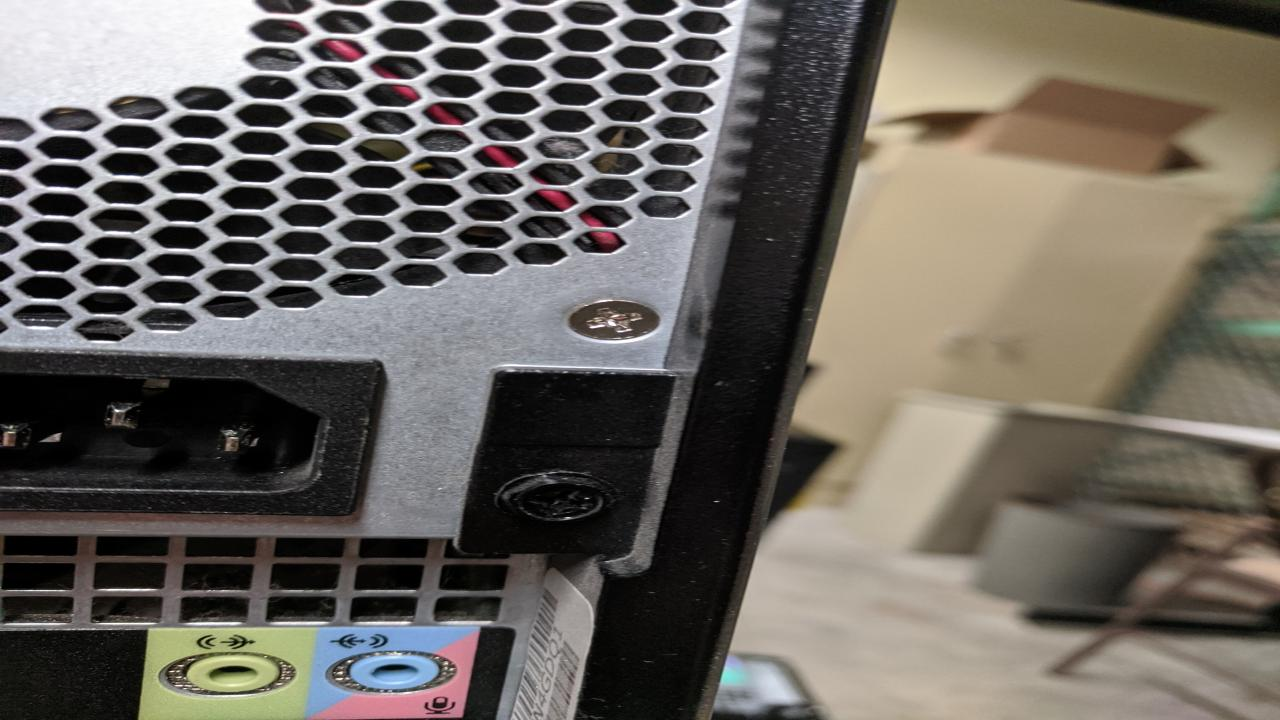CRS: (494, 472, 616, 528), (570, 301, 658, 343)
